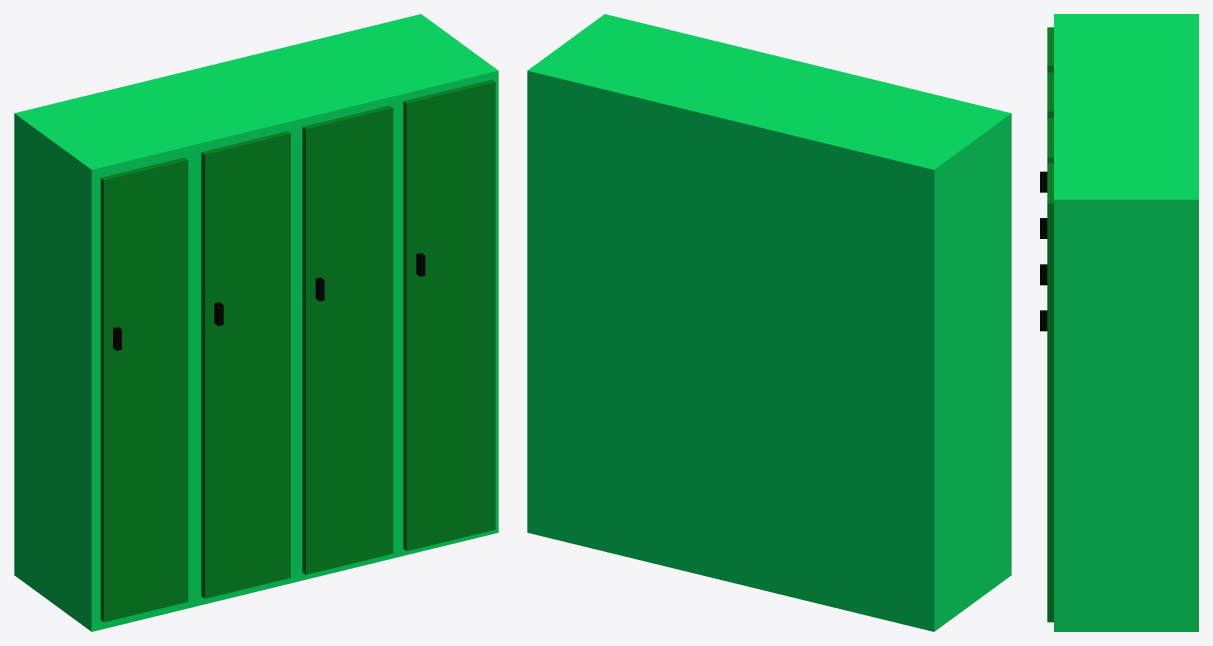
The model's file is GREEN_Locker.fbx.
3 views of the same model, side by side, from view 1: azimuth 30°, elevation 25°; view 2: azimuth 150°, elevation 25°; view 3: azimuth 270°, elevation 25° (orthographic). The views are drawn at different scales.
Visible parts, largest first — view 1: Locker, Knobs; view 2: Locker; view 3: Locker, Knobs.
Part boxes in pixels (left/top/right/bottom): Locker: left=14, top=14, right=498, bottom=631; Knobs: left=113, top=253, right=425, bottom=350; Locker: left=527, top=14, right=1011, bottom=631; Locker: left=1047, top=14, right=1198, bottom=631; Knobs: left=1040, top=171, right=1047, bottom=331.
Bounding box in the file's own units: 607 × 658 × 219.
